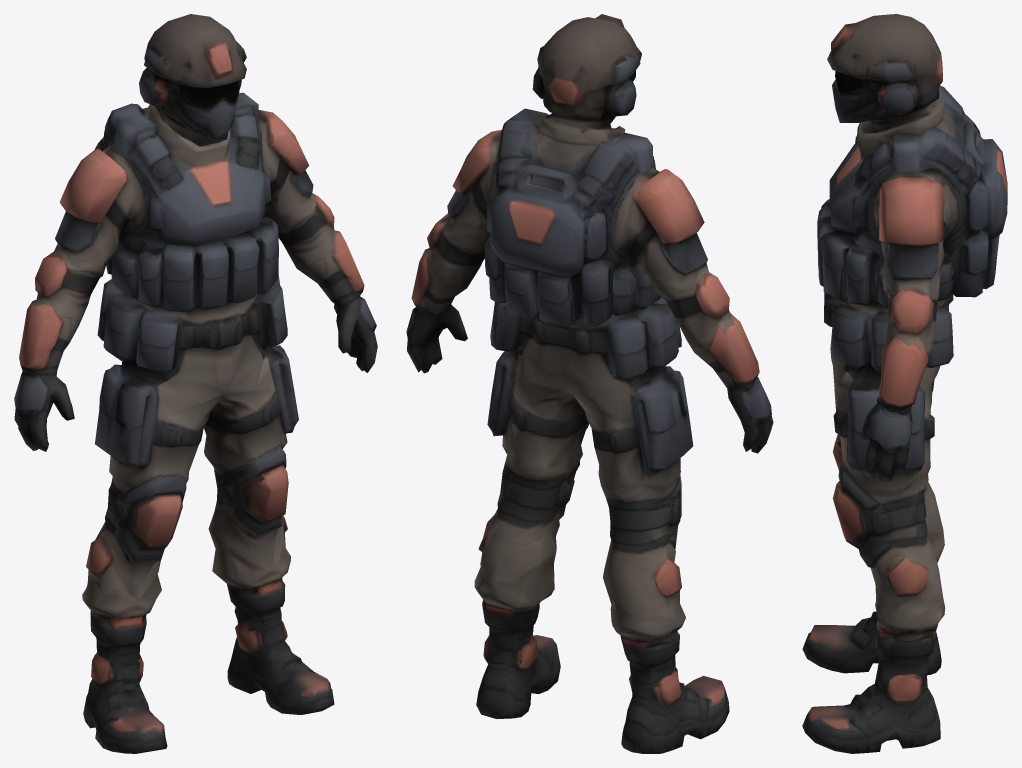
File: red-soldier-lod1.fbx
3 views of the same model, side by side, from view 1: azimuth 30°, elevation 25°; view 2: azimuth 150°, elevation 25°; view 3: azimuth 270°, elevation 25° (orthographic).
Parts seen in each view (by area): view 1: RedSoldier_LOD1; view 2: RedSoldier_LOD1; view 3: RedSoldier_LOD1.
Boxes of the visible parts, left/top/right/bottom form: RedSoldier_LOD1: left=14, top=14, right=377, bottom=753; RedSoldier_LOD1: left=406, top=14, right=773, bottom=753; RedSoldier_LOD1: left=802, top=14, right=1007, bottom=753.
Bounding box in the file's own units: 97.3 × 180 × 49.11.
Materials: 1 (1 with a texture image).
